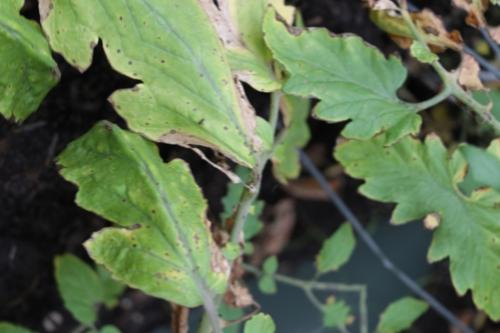Tomato Early blight leaf: (22, 92, 269, 333), (89, 0, 318, 217), (228, 0, 450, 186)
